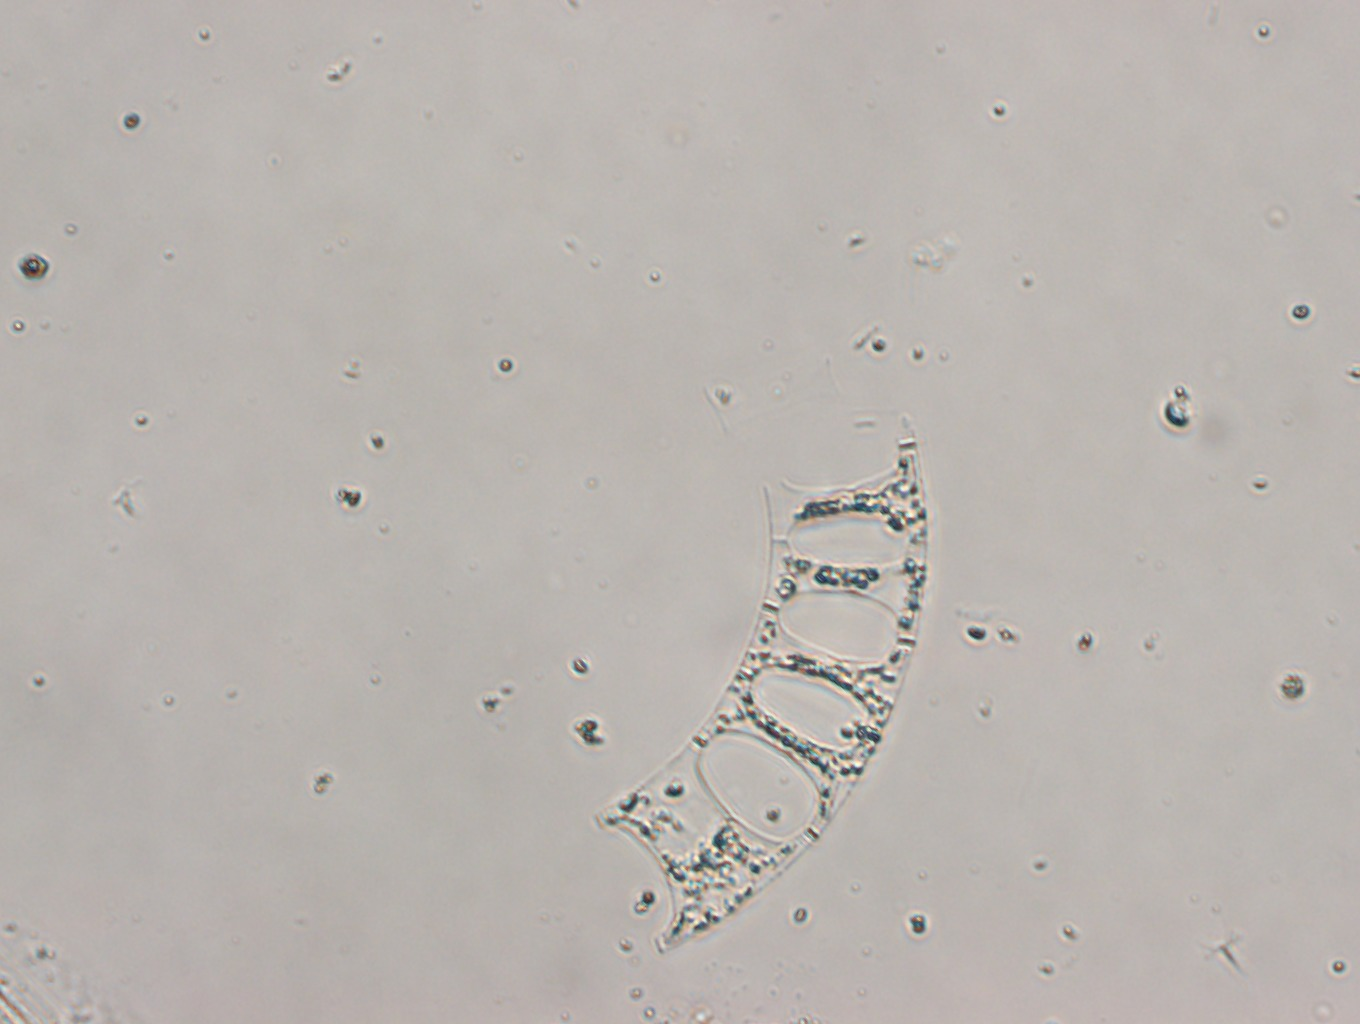eucampia: (595, 411, 932, 958)
